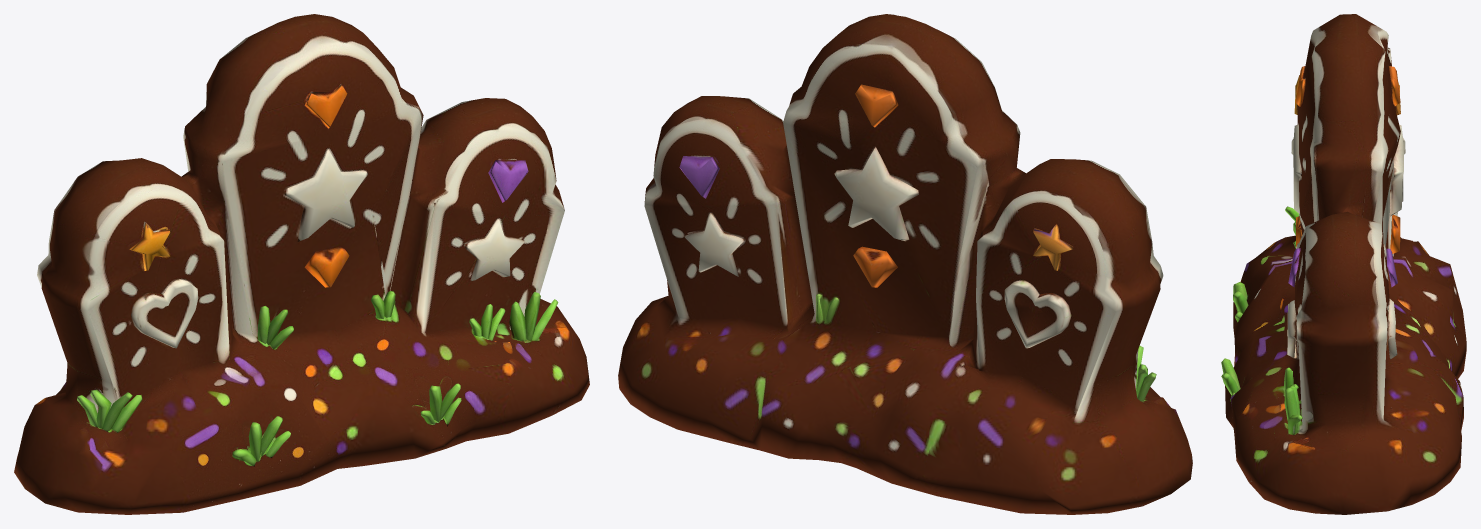
The model's file is AW-HW-GRAVE-001-v0.2.glb.
3 views of the same model, side by side, from view 1: azimuth 30°, elevation 25°; view 2: azimuth 150°, elevation 25°; view 3: azimuth 270°, elevation 25° (orthographic). The views are drawn at different scales.
Visible parts, largest first — view 1: AW-HW-GRAVE-001_meter_ground_pivot; view 2: AW-HW-GRAVE-001_meter_ground_pivot; view 3: AW-HW-GRAVE-001_meter_ground_pivot.
Part boxes in pixels (x1,y1,x2,y2): AW-HW-GRAVE-001_meter_ground_pivot: (14,14,589,514); AW-HW-GRAVE-001_meter_ground_pivot: (618,14,1192,514); AW-HW-GRAVE-001_meter_ground_pivot: (1221,14,1466,514).
Bounding box in the file's own units: 1.54 × 1.1 × 0.6583.
Materials: 1 (1 with a texture image).
